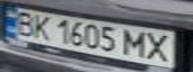0: (81, 21, 103, 51)
1: (51, 16, 72, 44)
5: (100, 24, 121, 54)
6: (66, 19, 87, 47)
B: (9, 9, 39, 36)
K: (27, 12, 54, 41)
M: (121, 28, 151, 57)
X: (142, 30, 178, 63)
